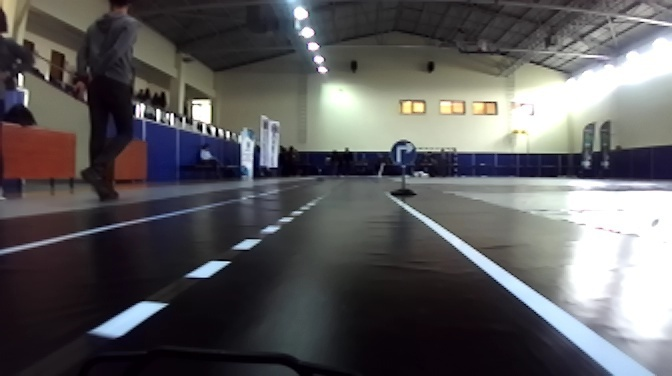saga_donus: (388, 142, 419, 169)
